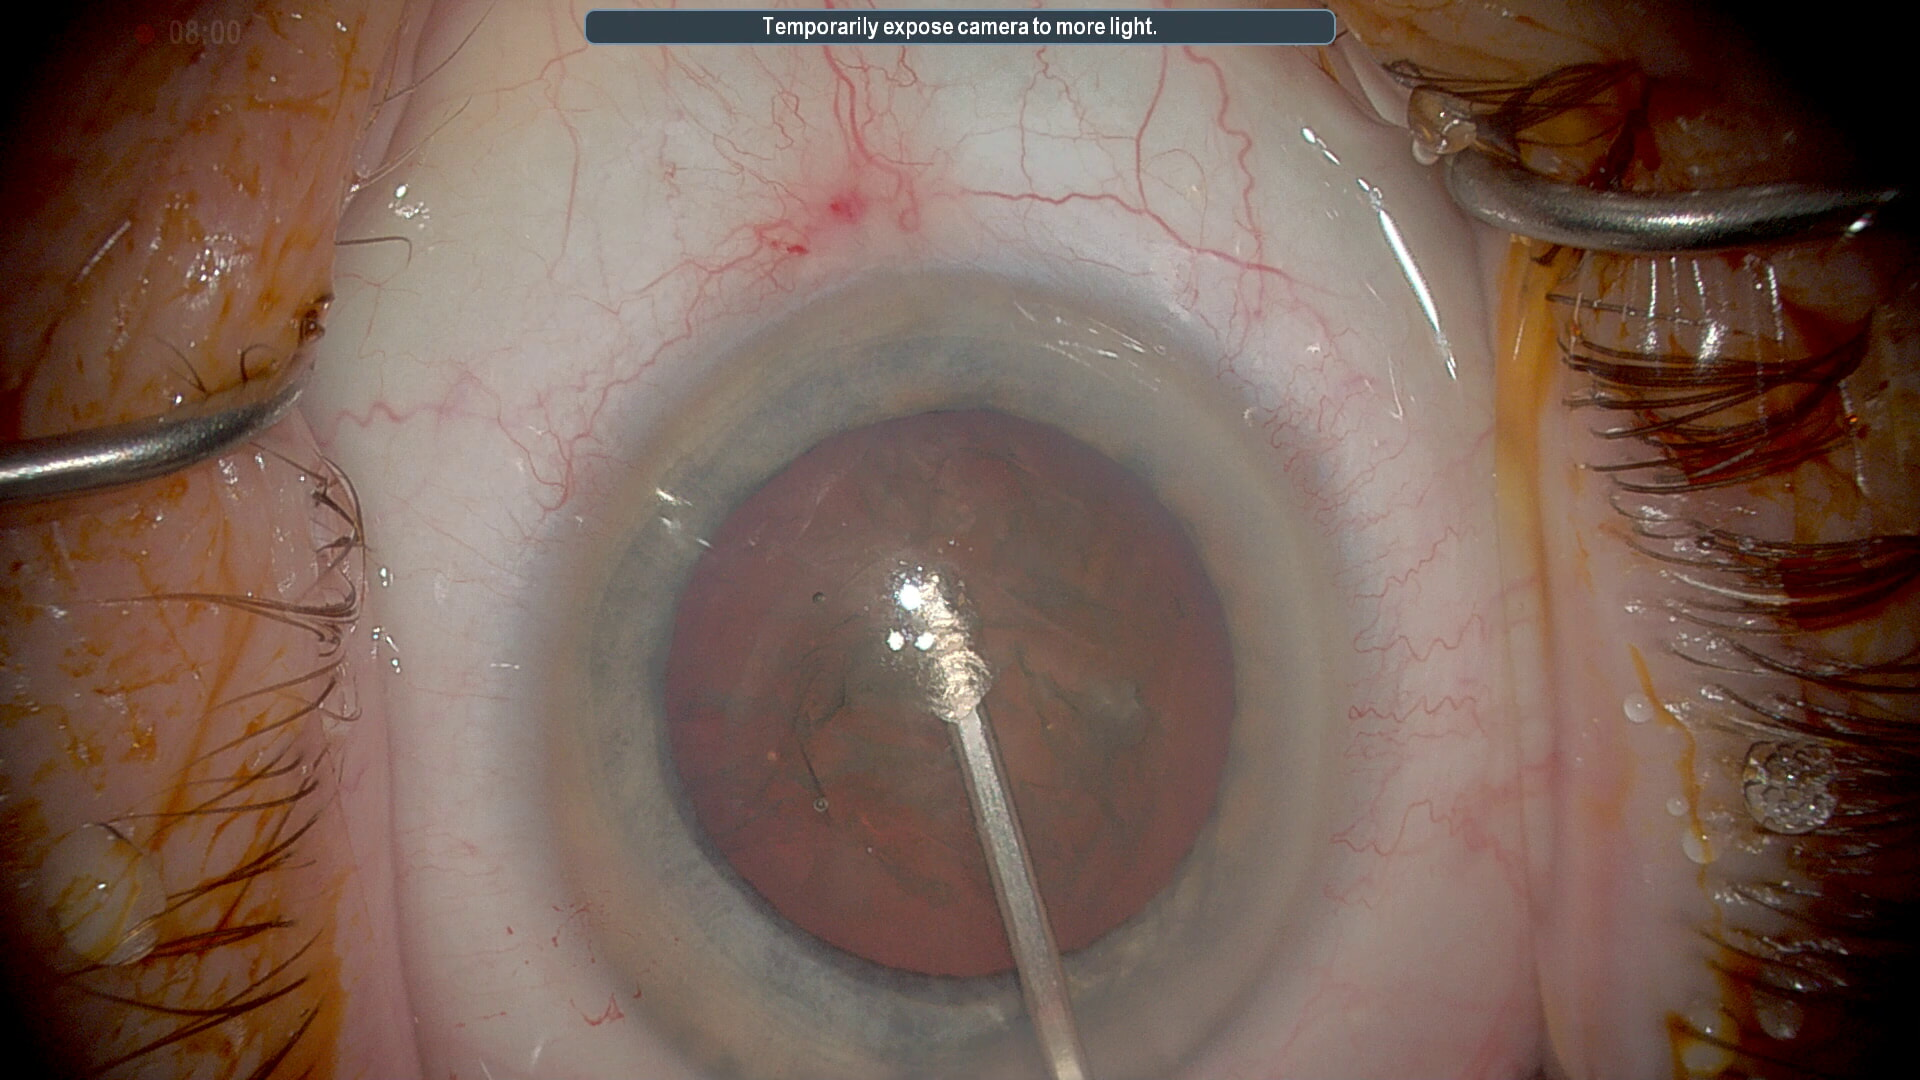iris: (555, 294, 1349, 1080)
pupil: (660, 405, 1245, 985)
